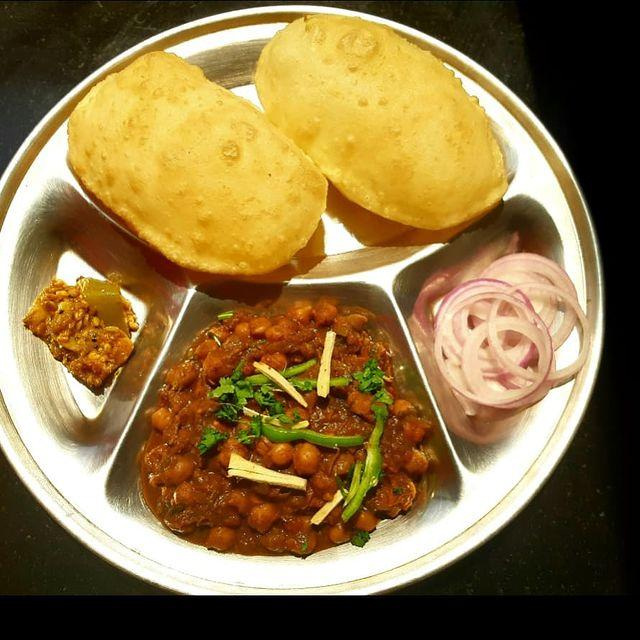Chole: (160, 304, 415, 544)
